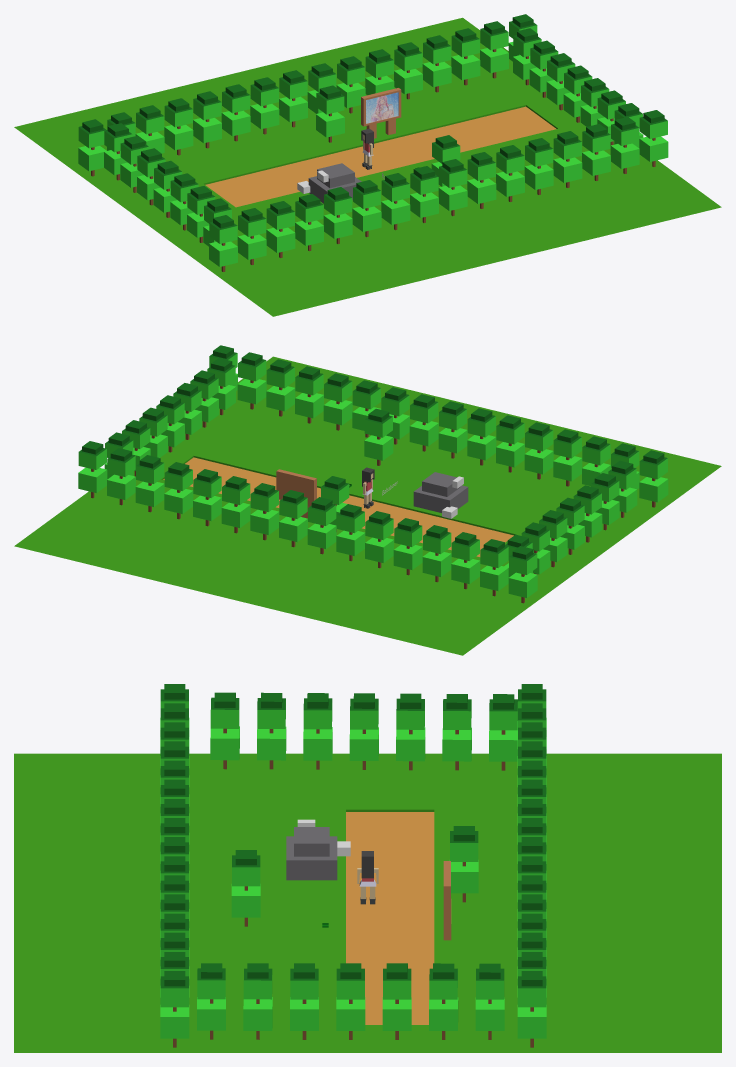
Rendered from Three.glb.
3 renders of one model, top to bottom at view 1: azimuth 30°, elevation 25°; view 2: azimuth 150°, elevation 25°; view 3: azimuth 270°, elevation 25°, orthographic. The views are drawn at different scales.
Parts seen in each view (by area): view 1: Ground, Board; view 2: Ground, Board; view 3: Ground, heels, Board.
Part boxes in pixels (x1,y1,x2,y2): Ground: [14, 14, 721, 316]; Board: [361, 88, 401, 138]; Ground: [14, 345, 721, 655]; Board: [276, 469, 316, 518]; Ground: [14, 684, 721, 1052]; heels: [357, 851, 378, 904]; Board: [443, 861, 451, 940].
Bounding box in the file's own units: 64.08 × 7.34 × 64.08.
Materials: 14 (1 with a texture image).
